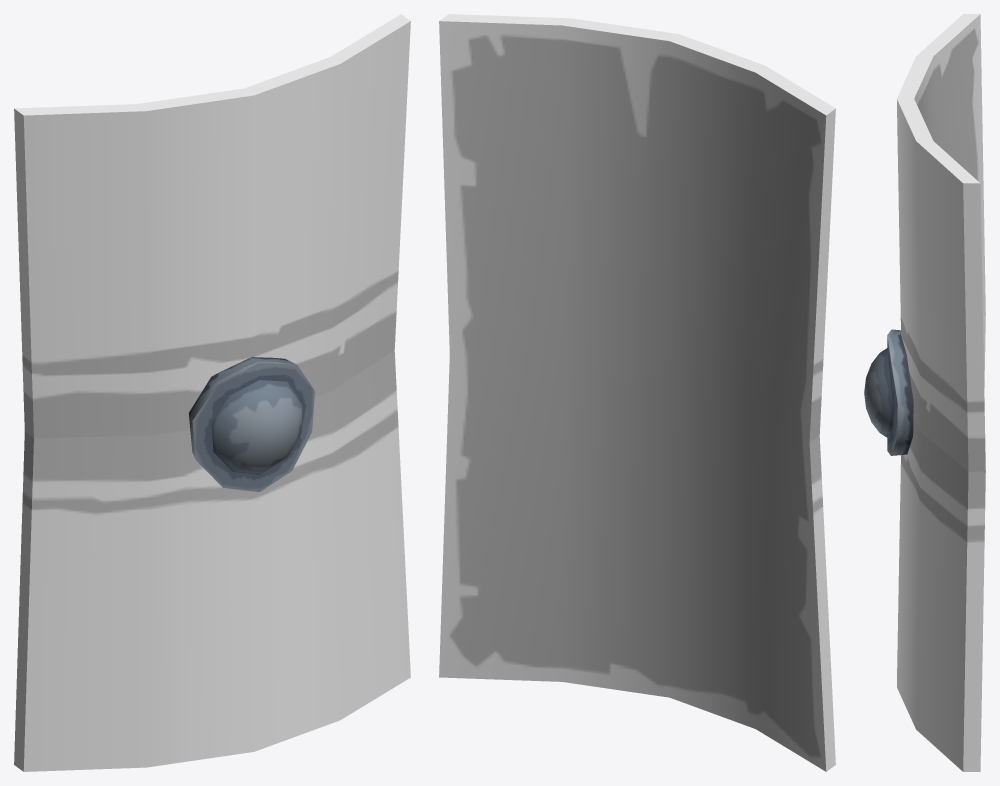
Rendered from ShieldSquare3.fbx.
3 renders of one model, left to right at view 1: azimuth 30°, elevation 25°; view 2: azimuth 150°, elevation 25°; view 3: azimuth 270°, elevation 25°, orthographic. The views are drawn at different scales.
Parts seen in each view (by area): view 1: ShieldSquare3; view 2: ShieldSquare3; view 3: ShieldSquare3.
Part boxes in pixels (left/top/right/bottom): ShieldSquare3: left=14, top=14, right=410, bottom=771; ShieldSquare3: left=439, top=14, right=835, bottom=771; ShieldSquare3: left=864, top=14, right=985, bottom=771.
Bounding box in the file's own units: 75.08 × 122 × 22.8.
